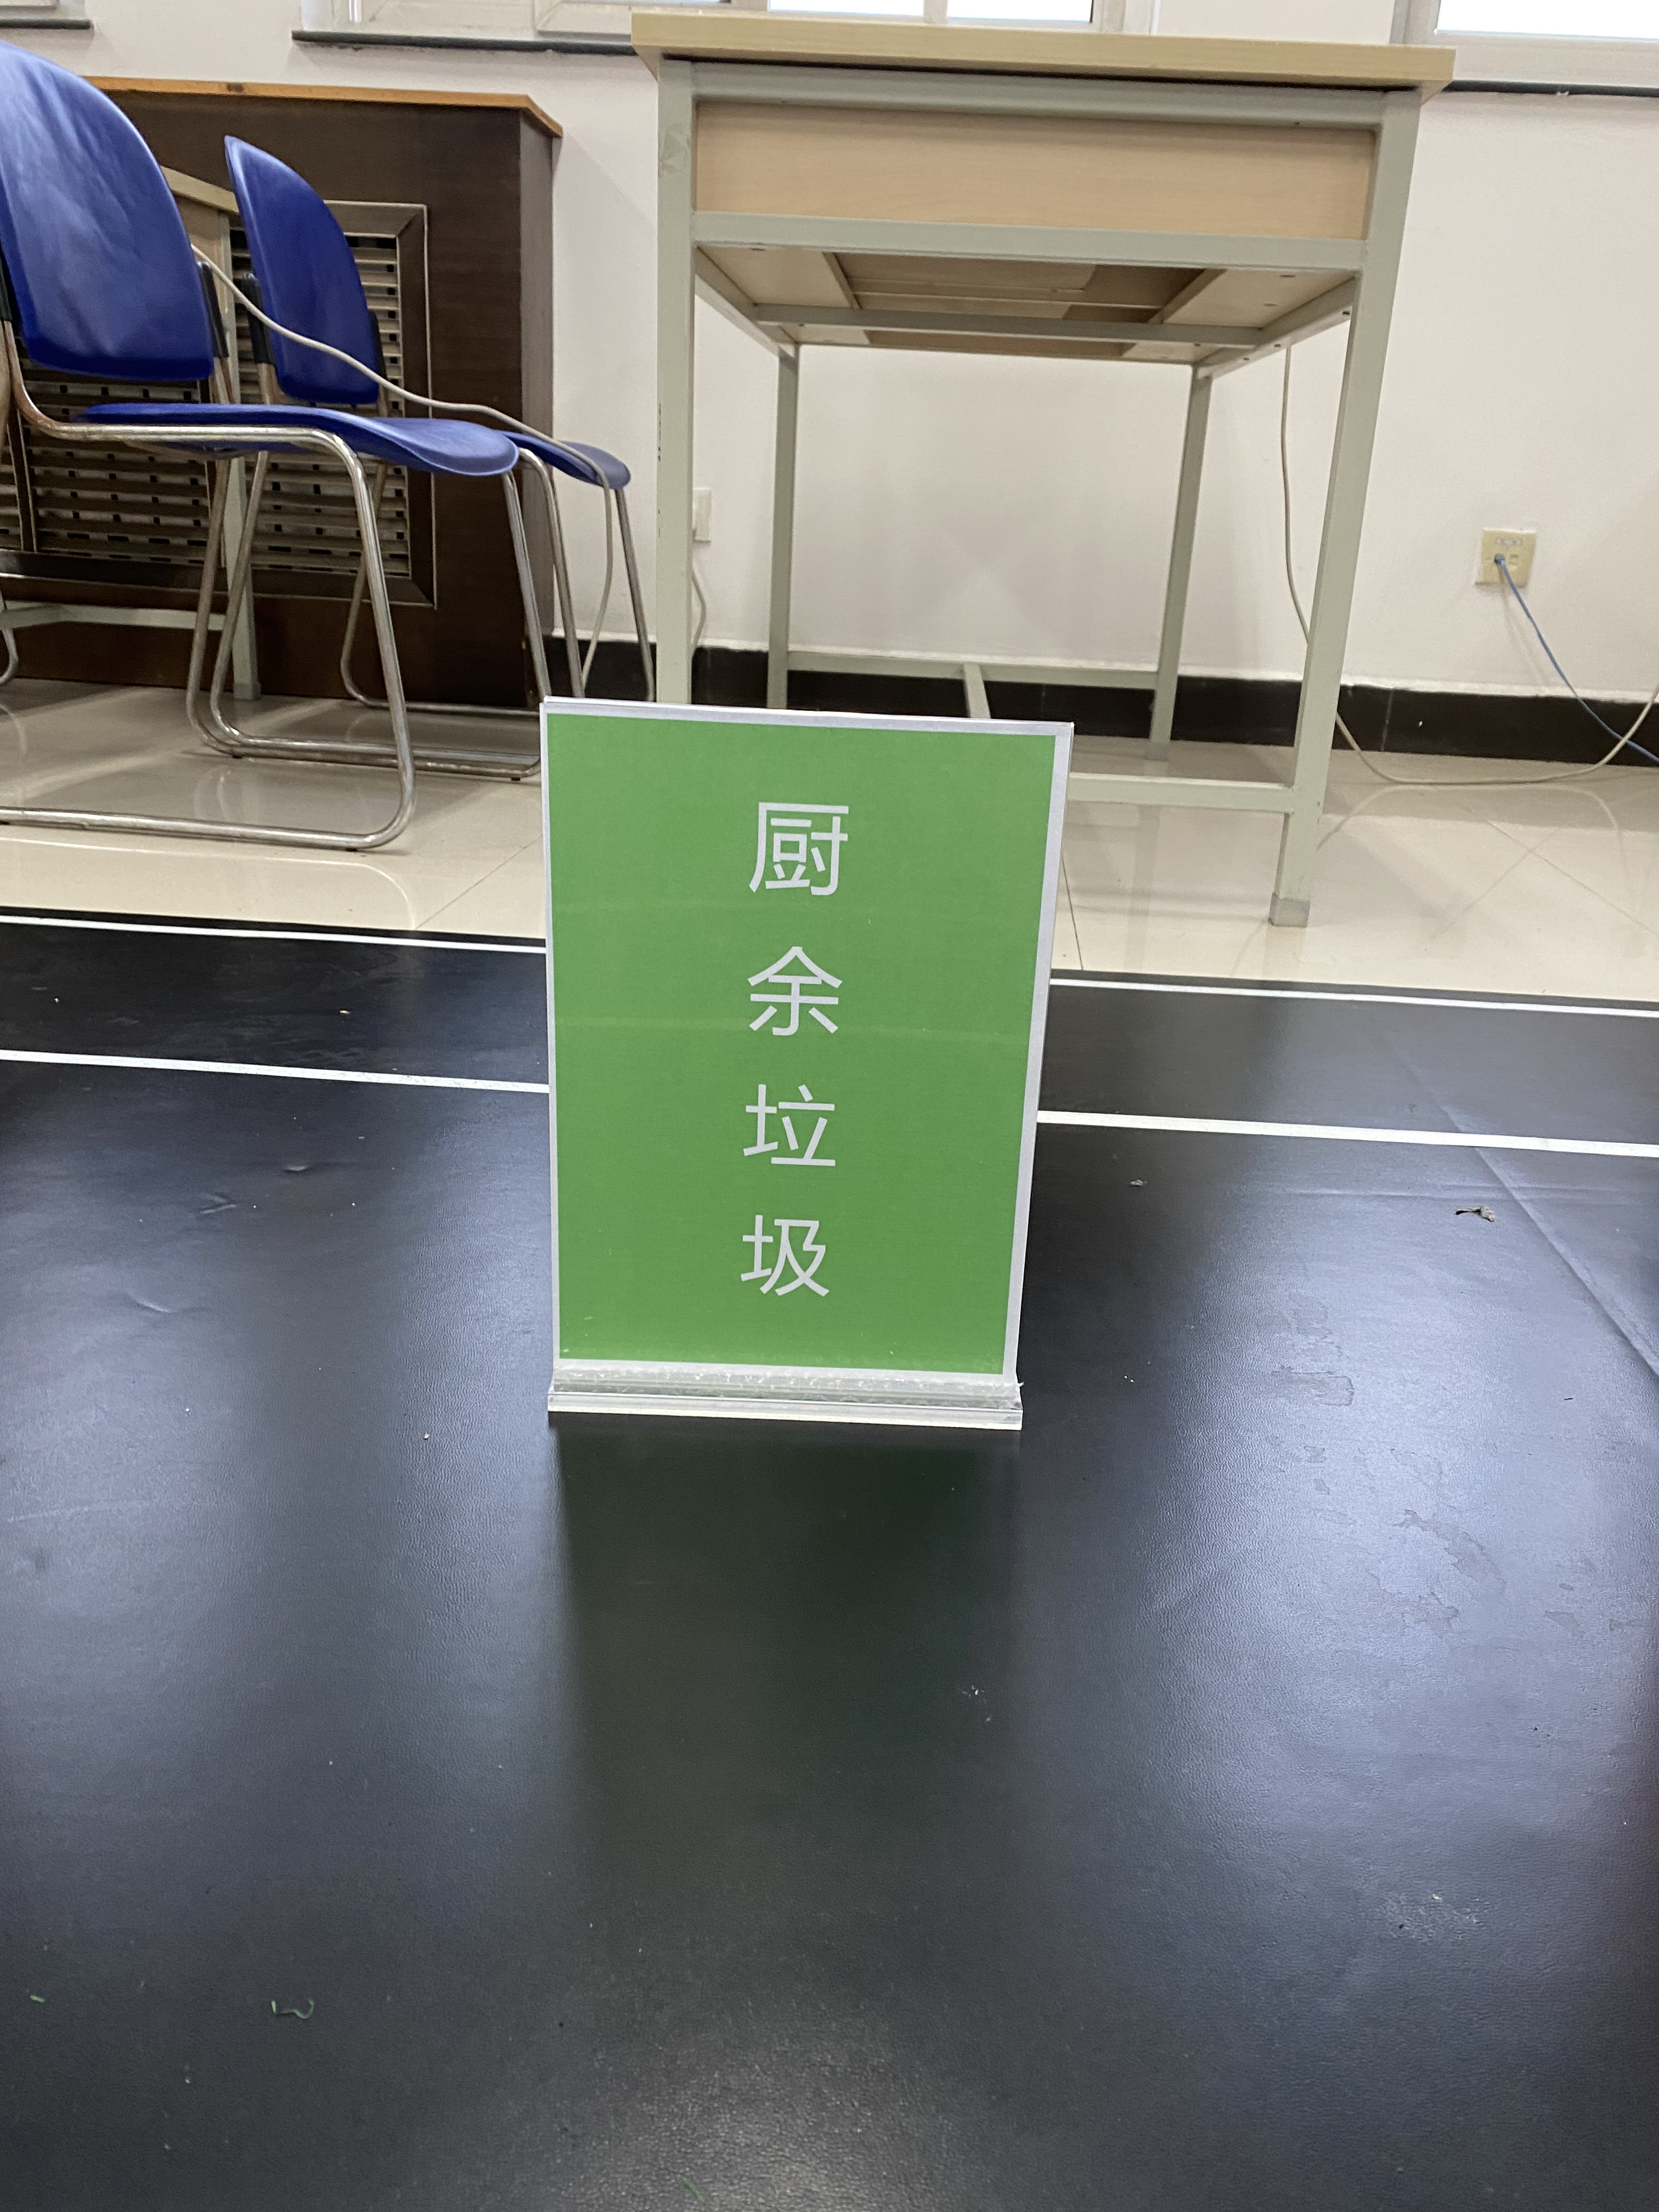green: (570, 737, 1006, 1360)
